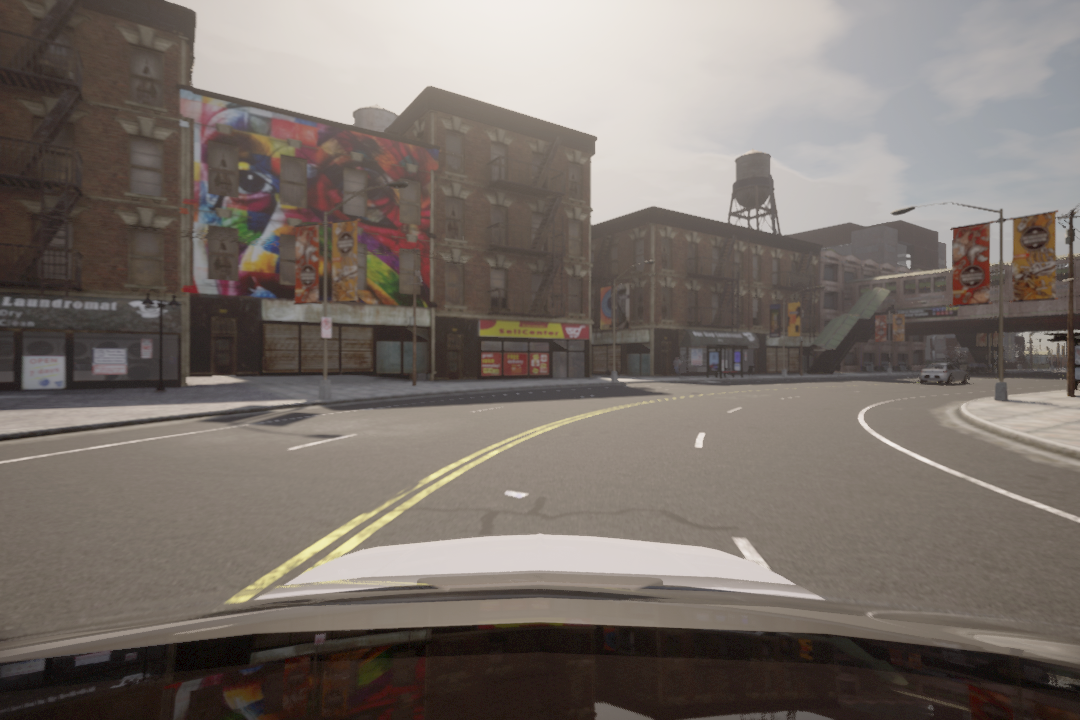TrafficSign_nstop: (321, 317, 334, 338)
